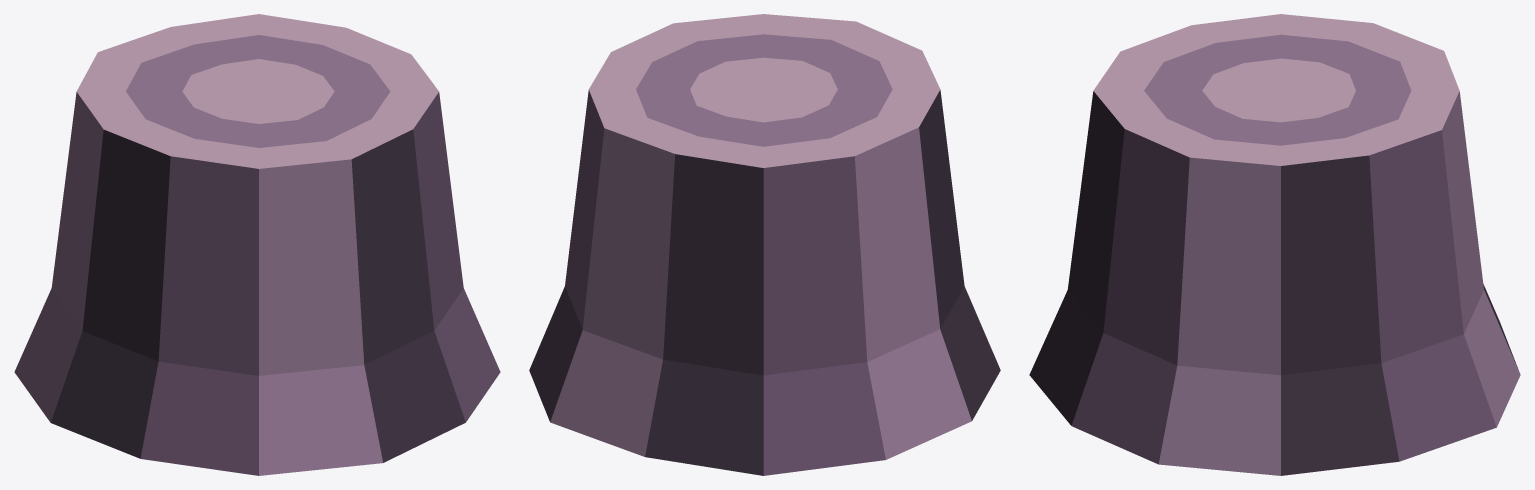
File: TW_STUMP_CUT_SMALL_A_LOD0.glb
3 renders of one model, left to right at view 1: azimuth 30°, elevation 25°; view 2: azimuth 150°, elevation 25°; view 3: azimuth 270°, elevation 25°, orthographic.
Visible parts, largest first — view 1: TW_STUMP_CUT_SMALL_A_LOD0; view 2: TW_STUMP_CUT_SMALL_A_LOD0; view 3: TW_STUMP_CUT_SMALL_A_LOD0.
Boxes of the visible parts, bbox=[...] form: TW_STUMP_CUT_SMALL_A_LOD0: bbox=[14, 14, 500, 475]; TW_STUMP_CUT_SMALL_A_LOD0: bbox=[529, 14, 1000, 475]; TW_STUMP_CUT_SMALL_A_LOD0: bbox=[1029, 14, 1520, 475].
Bounding box in the file's own units: 0.7385 × 0.48 × 0.7519.
1 material, 1 textured.
